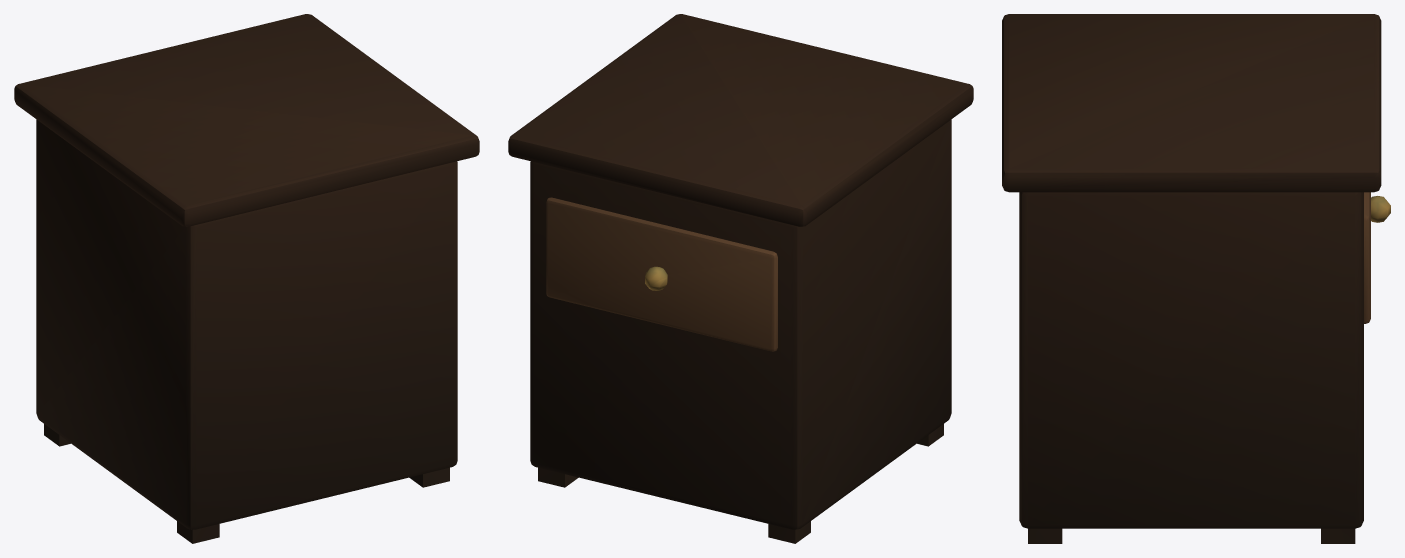
File: Nightstand.glb
3 views of the same model, side by side, from view 1: azimuth 30°, elevation 25°; view 2: azimuth 150°, elevation 25°; view 3: azimuth 270°, elevation 25° (orthographic). The views are drawn at different scales.
Parts seen in each view (by area): view 1: Nightstand_wood_dark; view 2: Nightstand_wood_dark, Nightstand_wood; view 3: Nightstand_wood_dark, Nightstand_wood.
Boxes of the visible parts, x1,y1,x2,y2 form: Nightstand_wood_dark: (14,14,479,543); Nightstand_wood_dark: (508,14,973,543); Nightstand_wood: (546,197,777,351); Nightstand_wood_dark: (1002,14,1381,543); Nightstand_wood: (1364,192,1370,323).
Size of the model in its own units: 2.2 by 2.46 by 2.26.
